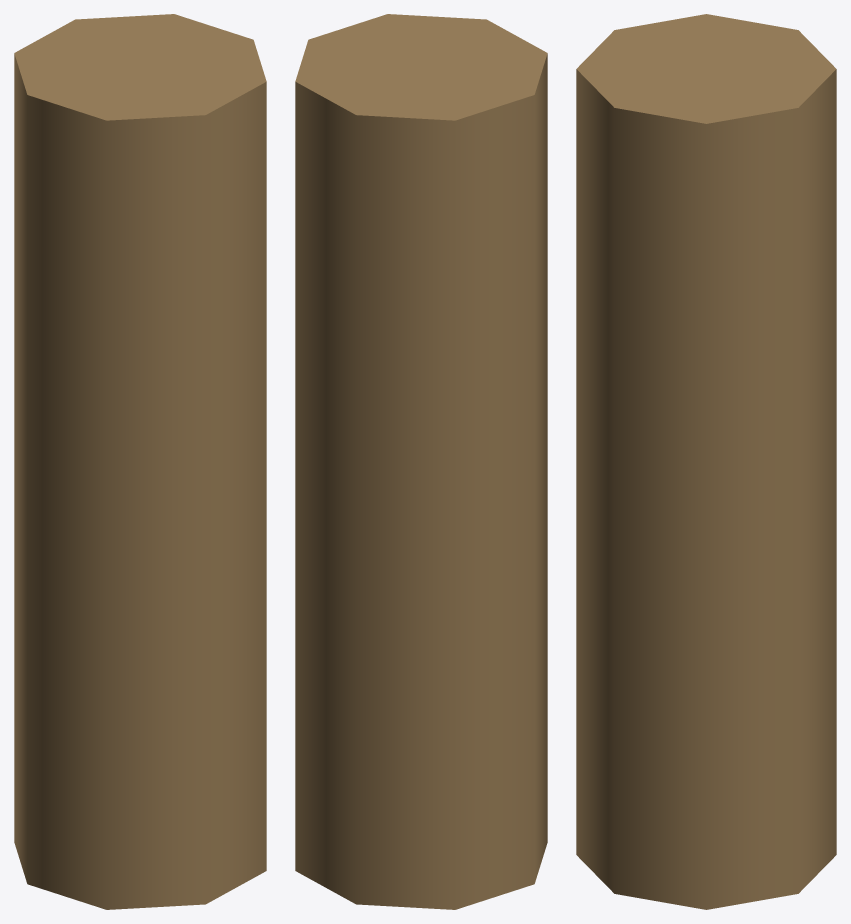
File: fence_post.fbx
3 renders of one model, left to right at view 1: azimuth 30°, elevation 25°; view 2: azimuth 150°, elevation 25°; view 3: azimuth 270°, elevation 25°, orthographic.
Visible parts, largest first — view 1: Cylinder; view 2: Cylinder; view 3: Cylinder.
Part boxes in pixels (bbox=[...]): Cylinder: bbox=[14, 14, 266, 909]; Cylinder: bbox=[295, 14, 547, 909]; Cylinder: bbox=[576, 14, 836, 909].
Size of the model in its own units: 0.09 by 0.09 by 0.3.
